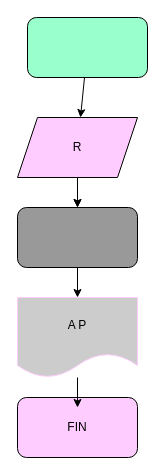
This 165x475 diagram has some shape labels left out. Each missing label, with the centre of its shape:
"A: PPI R2 P=2PI R" goes at [77,237].
"INICIO" goes at [87,47].
